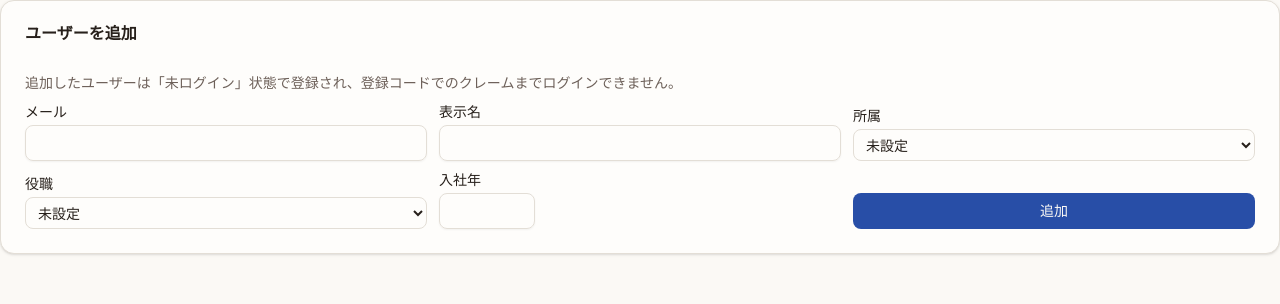
Scenario: AddUserForm › email と表示名を入力して送信すると POST /users が呼ばれ、成功メッセージが出る
Type "new@example.com" into the field labelled "メール".
click(226, 143); type("new@example.com")  # box [25,125,427,161]
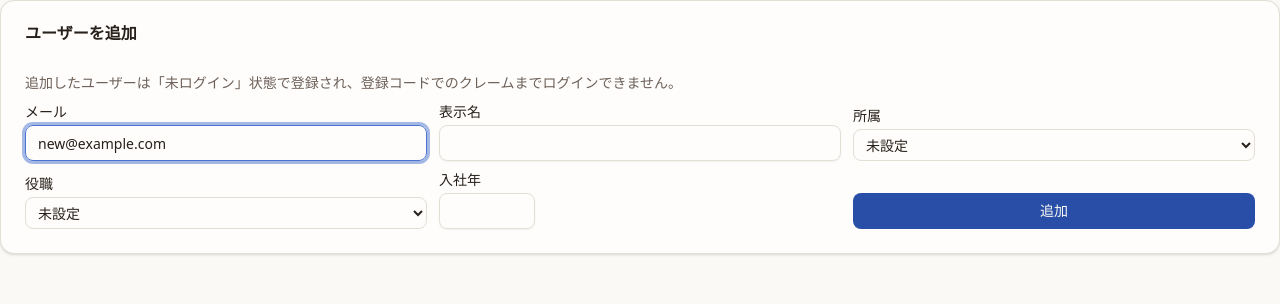
Type "新人太郎" into the field labelled "表示名".
click(640, 143); type("新人太郎")  # box [439,125,841,161]
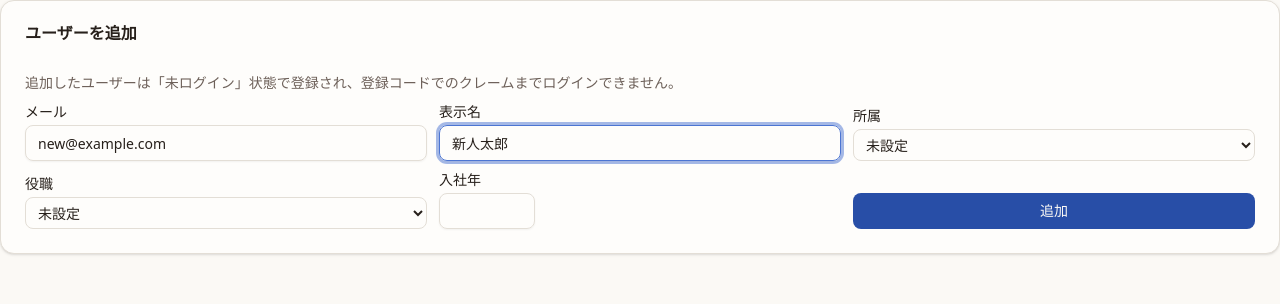
Click the button "追加".
click(1054, 211)  # box [853,193,1255,229]
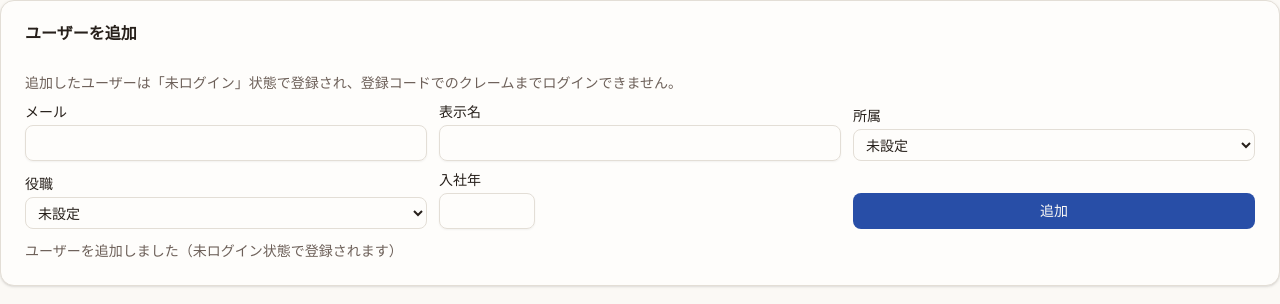
Expected: the text "ユーザーを追加しました（未ログイン状態で登録されます）" is shown, [25,241,403,260]
